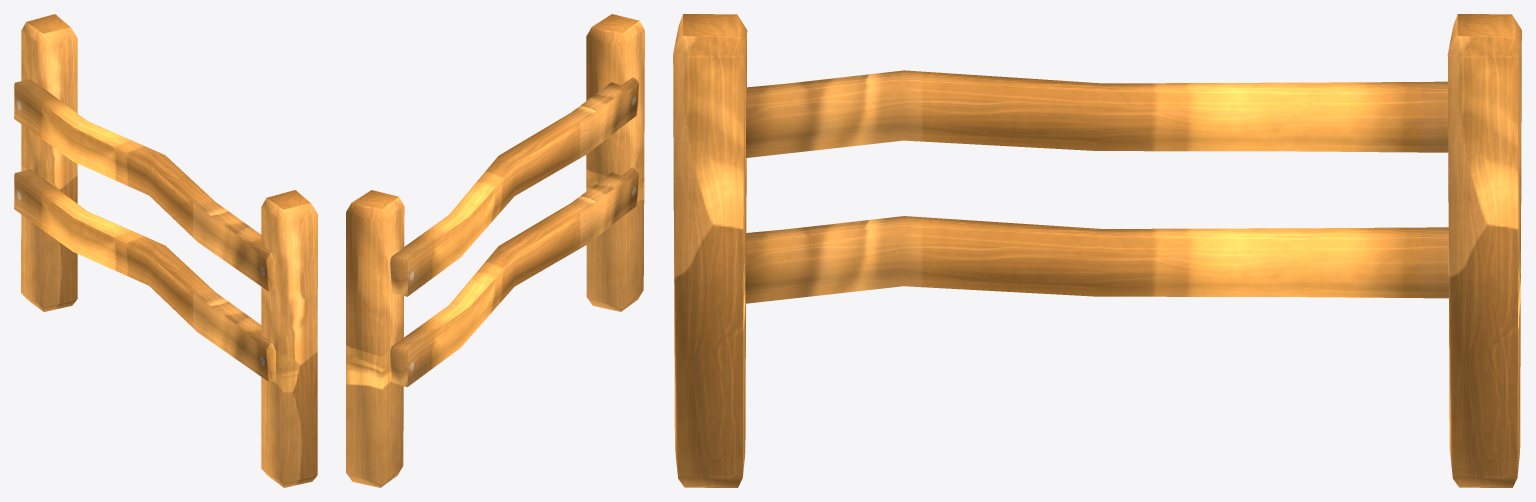
File: SM_Stylized_Fence_02.fbx
3 renders of one model, left to right at view 1: azimuth 30°, elevation 25°; view 2: azimuth 150°, elevation 25°; view 3: azimuth 270°, elevation 25°, orthographic. The views are drawn at different scales.
Parts seen in each view (by area): view 1: SM_Stylized_Fence_02_LOD0; view 2: SM_Stylized_Fence_02_LOD0; view 3: SM_Stylized_Fence_02_LOD0.
Boxes of the visible parts, bbox=[...] form: SM_Stylized_Fence_02_LOD0: bbox=[14, 14, 317, 487]; SM_Stylized_Fence_02_LOD0: bbox=[346, 14, 644, 487]; SM_Stylized_Fence_02_LOD0: bbox=[673, 14, 1521, 487].
Bounding box in the file's own units: 27.25 × 230 × 135.
